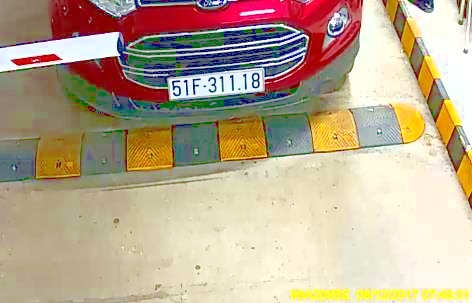plate: (163, 68, 268, 101)
